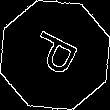P_SE: (24, 27, 86, 83)
